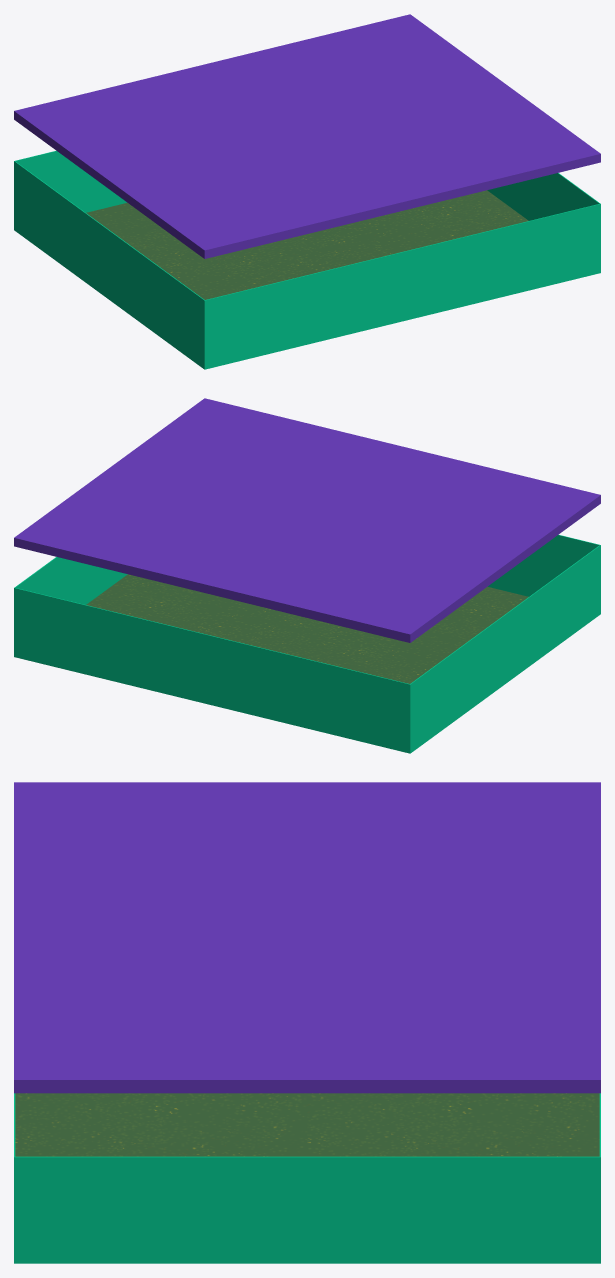
File: walls.glb
The picture shows the model from 3 angles, top to bottom: view 1: azimuth 30°, elevation 25°; view 2: azimuth 150°, elevation 25°; view 3: azimuth 270°, elevation 25°; orthographic projection. The views are drawn at different scales.
Visible parts, largest first — view 1: Cube.003, Cube.002, FloorBaseGrass_01, Cube.004, Cube.001, Cube; view 2: Cube.003, Cube, FloorBaseGrass_01, Cube.004, Cube.001, Cube.002; view 3: Cube.003, Cube.001, FloorBaseGrass_01.
Boxes of the visible parts, x1,y1,x2,y2 form: Cube.003: [14, 14, 600, 258]; Cube.002: [204, 204, 600, 369]; FloorBaseGrass_01: [86, 190, 528, 299]; Cube.004: [14, 161, 204, 369]; Cube.001: [487, 173, 600, 220]; Cube: [14, 150, 126, 212]; Cube.003: [14, 398, 600, 642]; Cube: [14, 587, 410, 753]; FloorBaseGrass_01: [86, 574, 528, 683]; Cube.004: [409, 545, 600, 753]; Cube.001: [14, 557, 127, 656]; Cube.002: [488, 534, 600, 596]; Cube.003: [14, 782, 600, 1093]; Cube.001: [14, 1156, 600, 1263]; FloorBaseGrass_01: [15, 1093, 599, 1156].
Size of the model in its own units: 96 by 27.6 by 80.
Materials: 4 (1 with a texture image).
